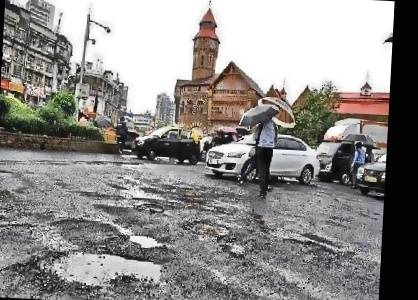pothole: (40, 247, 168, 291), (185, 217, 231, 239), (126, 230, 164, 249), (135, 200, 165, 212)
